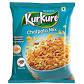kurkure: (21, 10, 60, 28)
plastic: (10, 2, 70, 80)
